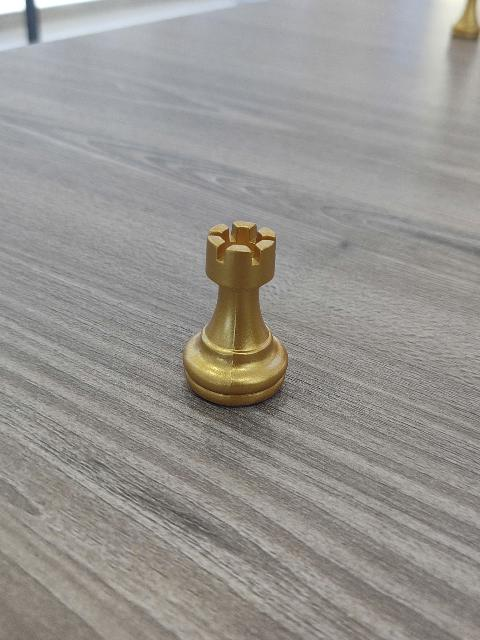black_rook: (179, 216, 293, 410)
